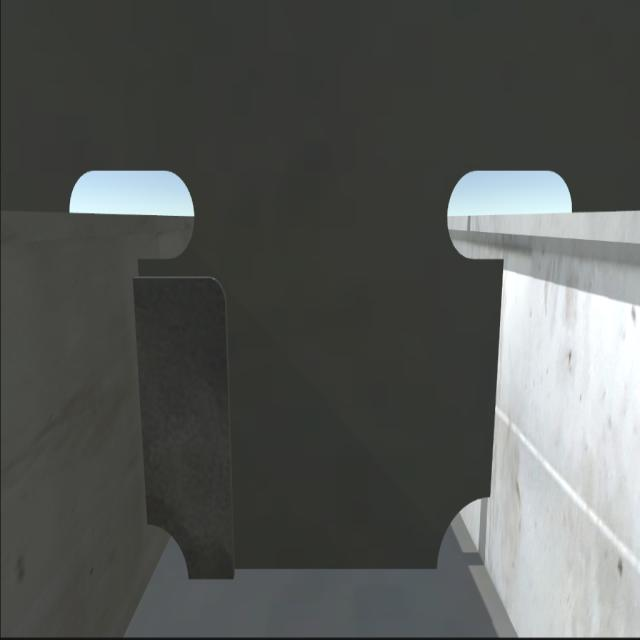fillet_hole: (436, 496, 492, 573), (148, 519, 190, 577)
fillet_yong_jeop_jang: (187, 564, 443, 586)
longi_yong_jeop_jang: (132, 249, 156, 532), (485, 251, 500, 501)
plate_CP05: (134, 276, 233, 582)
